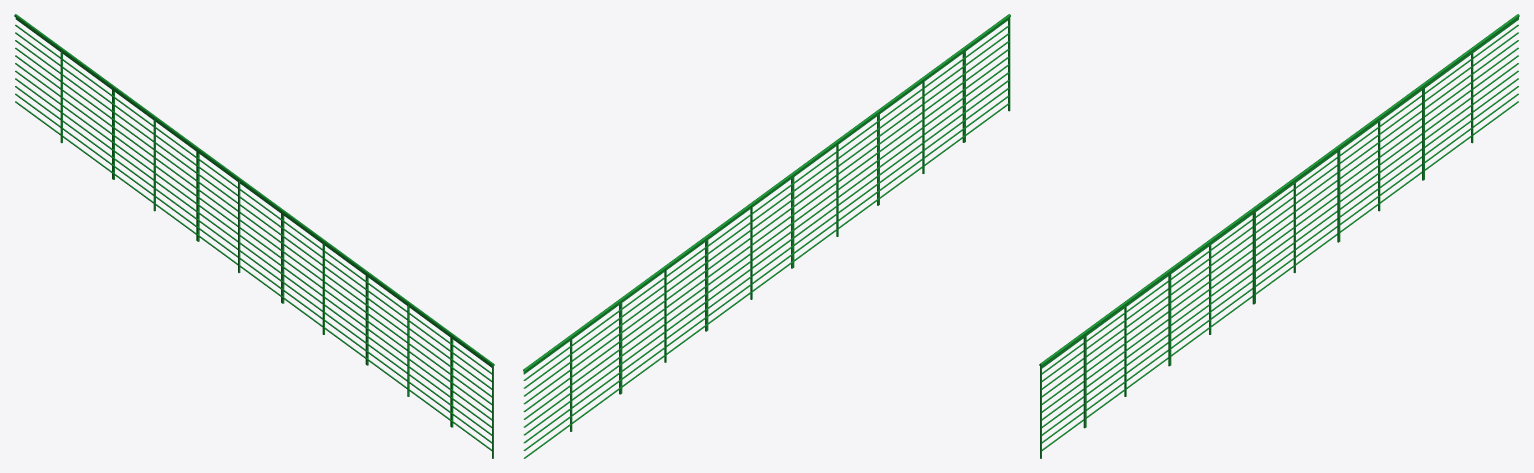
File: FenceFloor02.fbx
The picture shows the model from 3 angles, left to right: view 1: azimuth 30°, elevation 25°; view 2: azimuth 150°, elevation 25°; view 3: azimuth 330°, elevation 25°; orthographic projection.
Parts seen in each view (by area): view 1: FenceFloor02; view 2: FenceFloor02; view 3: FenceFloor02.
Part boxes in pixels (x1,y1,x2,y2): FenceFloor02: [14, 14, 494, 458]; FenceFloor02: [523, 14, 1010, 458]; FenceFloor02: [1039, 14, 1519, 458].
Size of the model in its own units: 4.66 by 124 by 1130.
